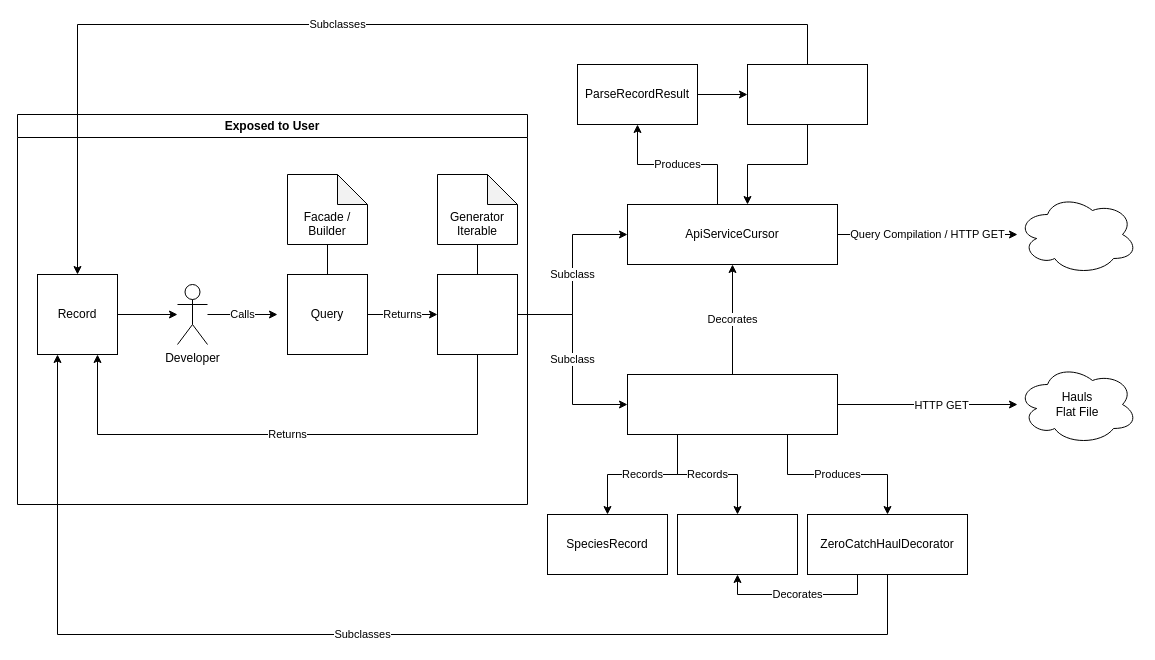
The diagram is 1155 pixels wide and 660 high, and some of its shapes have lost their labels. The centre of each missing label's shape, as x and y in pixels:
"ApiRecord" goes at point 807,94.
"Cursor" goes at point 477,314.
"Haul" goes at point 737,544.
"NegativeInferenceCursorDecorator" goes at point 732,404.
"REST API" goes at point 1077,234.
